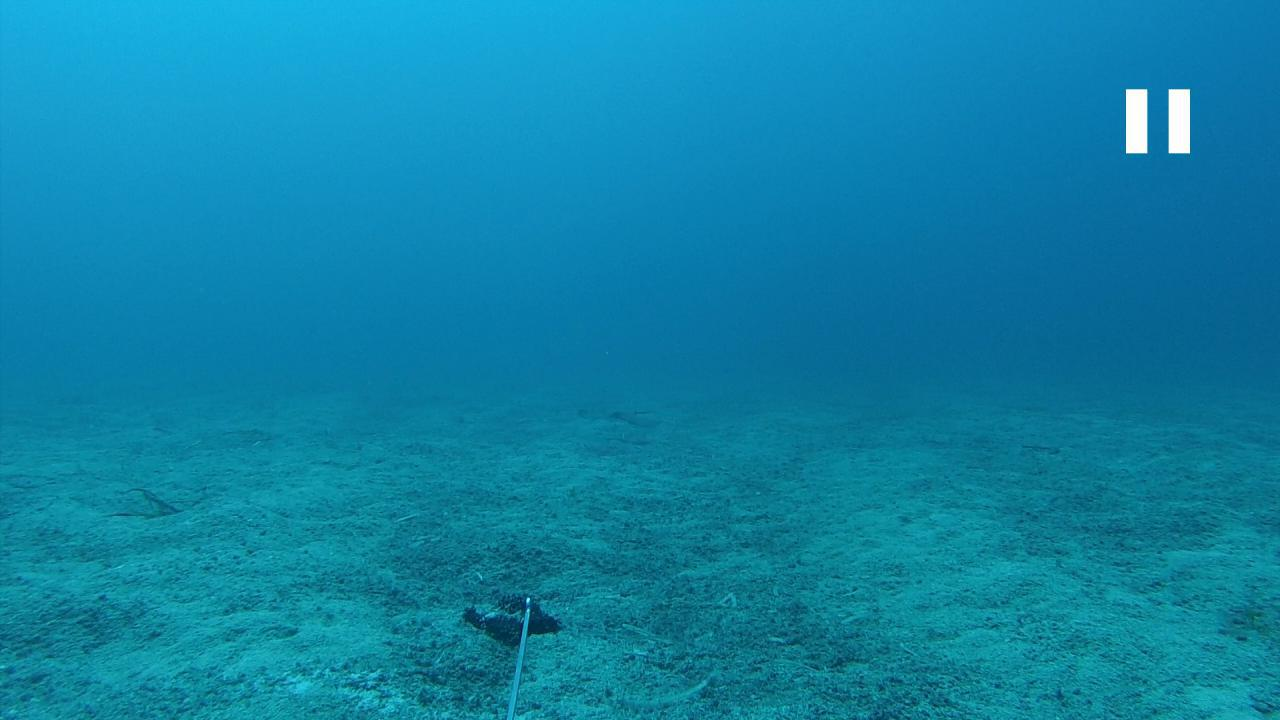dasyatis: (580, 408, 661, 430)
